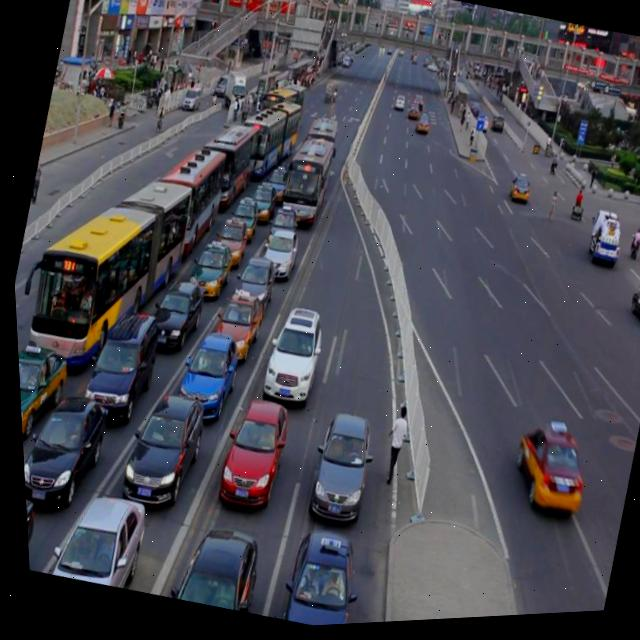bus: (578, 209, 623, 274)
car: (110, 391, 207, 517), (16, 387, 108, 513), (41, 488, 145, 594), (74, 307, 162, 429), (495, 416, 592, 526), (268, 525, 363, 630), (207, 398, 290, 513), (161, 521, 259, 618), (295, 414, 377, 529), (253, 307, 327, 412), (168, 331, 240, 426), (14, 336, 68, 446), (143, 278, 205, 358), (204, 290, 264, 368), (225, 256, 278, 325), (182, 240, 233, 304), (255, 232, 298, 284), (208, 220, 248, 270), (222, 195, 259, 243), (262, 205, 299, 251), (240, 181, 277, 227), (259, 167, 289, 208), (620, 284, 640, 336), (503, 173, 530, 206), (411, 114, 430, 139), (638, 236, 640, 275)
van: (7, 156, 199, 390), (134, 138, 232, 267), (228, 94, 305, 188), (187, 119, 260, 216), (273, 137, 335, 230), (292, 118, 341, 191), (254, 80, 307, 130)
